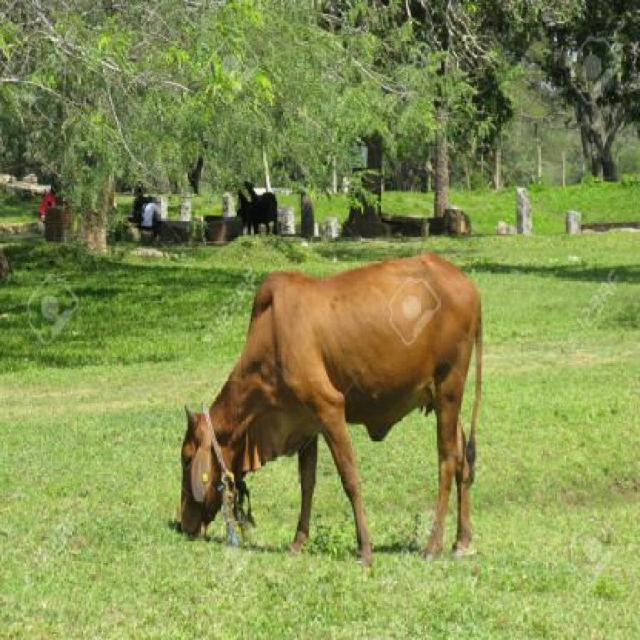Cow: (168, 251, 483, 558)
